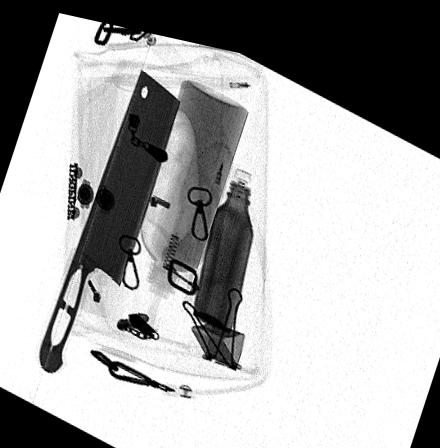Knife: (37, 61, 180, 372)
